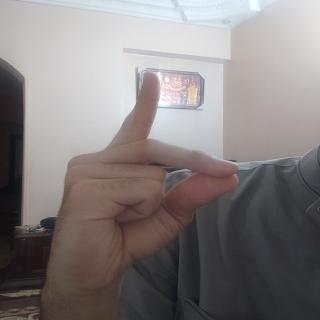TAA: (32, 65, 245, 316)
